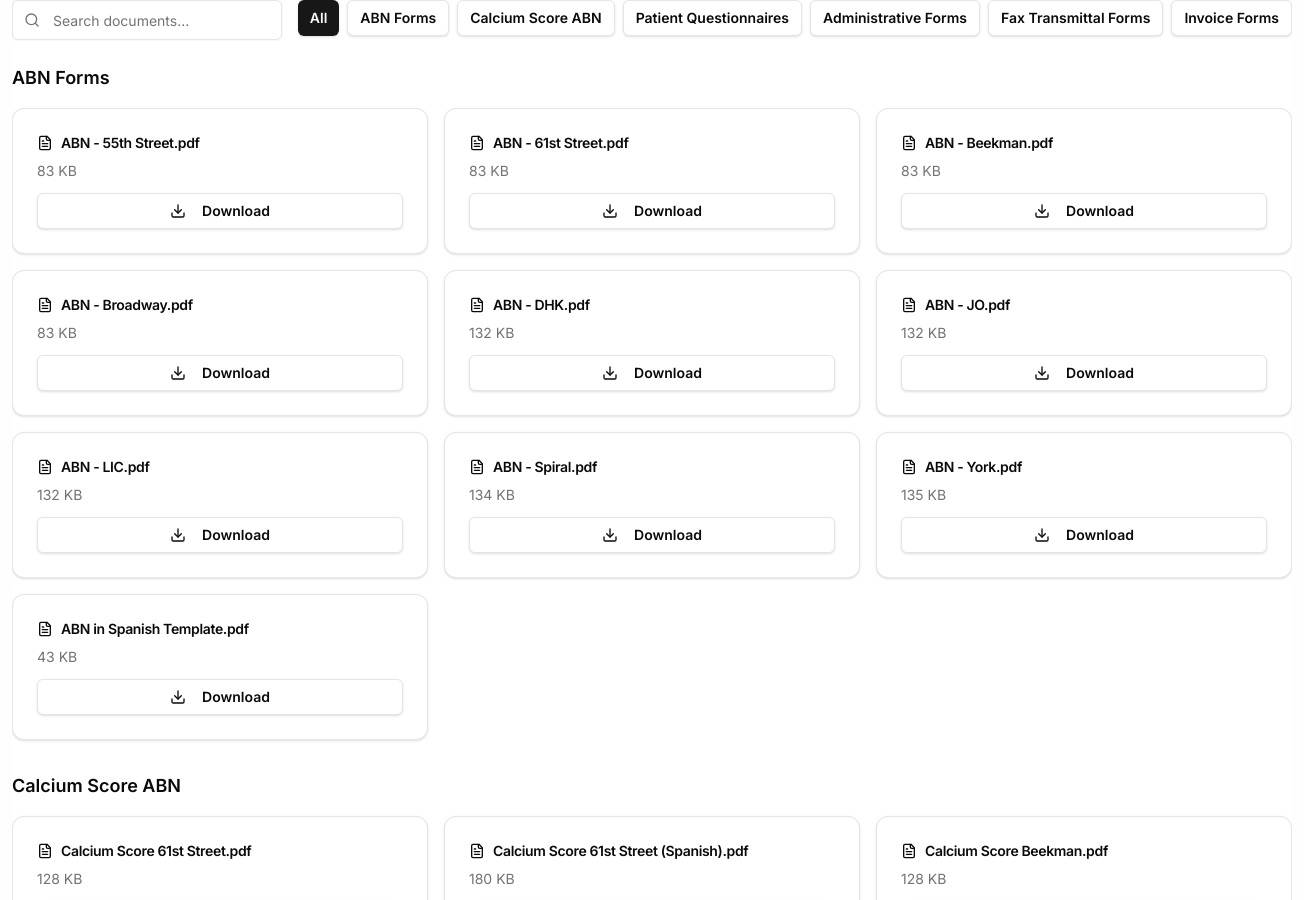
DocumentBrowser › Category Filtering › should show all documents when All Documents is selected
First select a specific category
Click the button "ABN Forms". click: [398, 18]
box: [347,0,449,36]
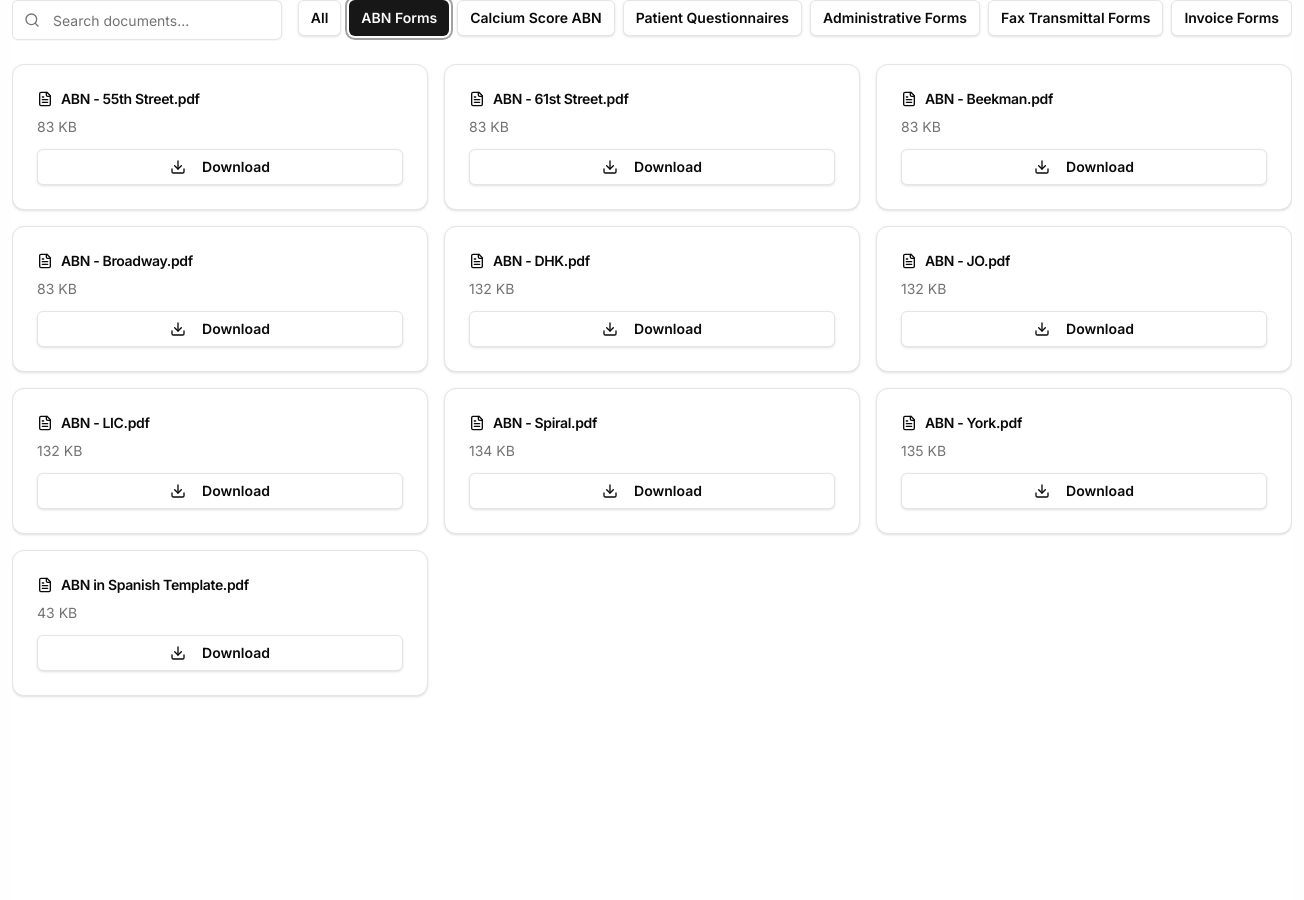
Then click All Documents
Click the button "All". click: [320, 18]
box: [298,0,341,36]
(page scrolled)
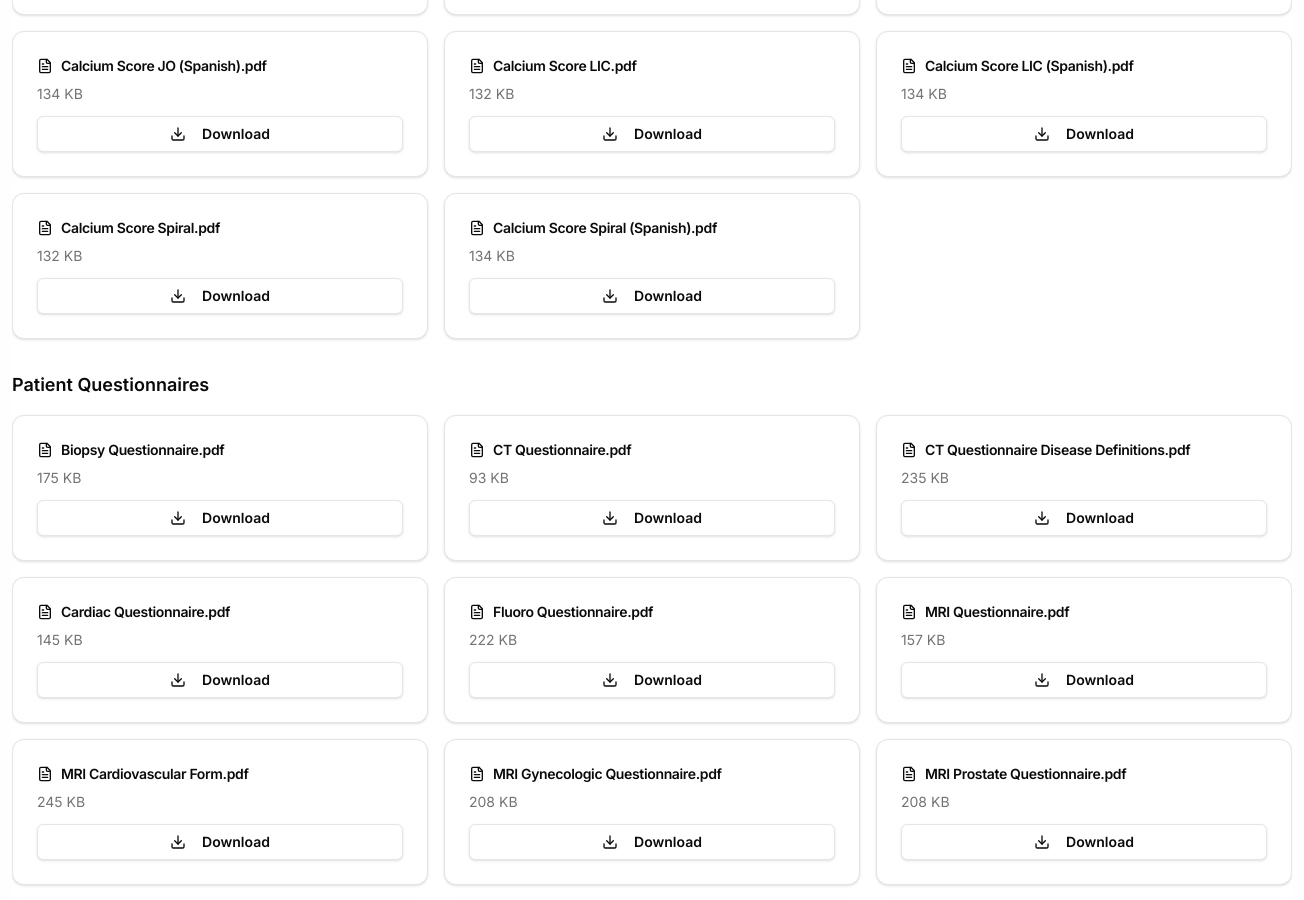
Now the text "Biopsy Questionnaire.pdf" is shown, box [37,441,224,458]
